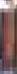cylinder: (1, 1, 17, 74)
